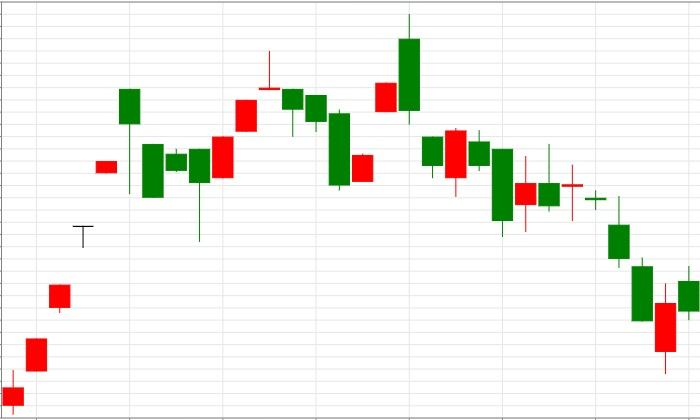evening_star_fall: (188, 50, 303, 243)
